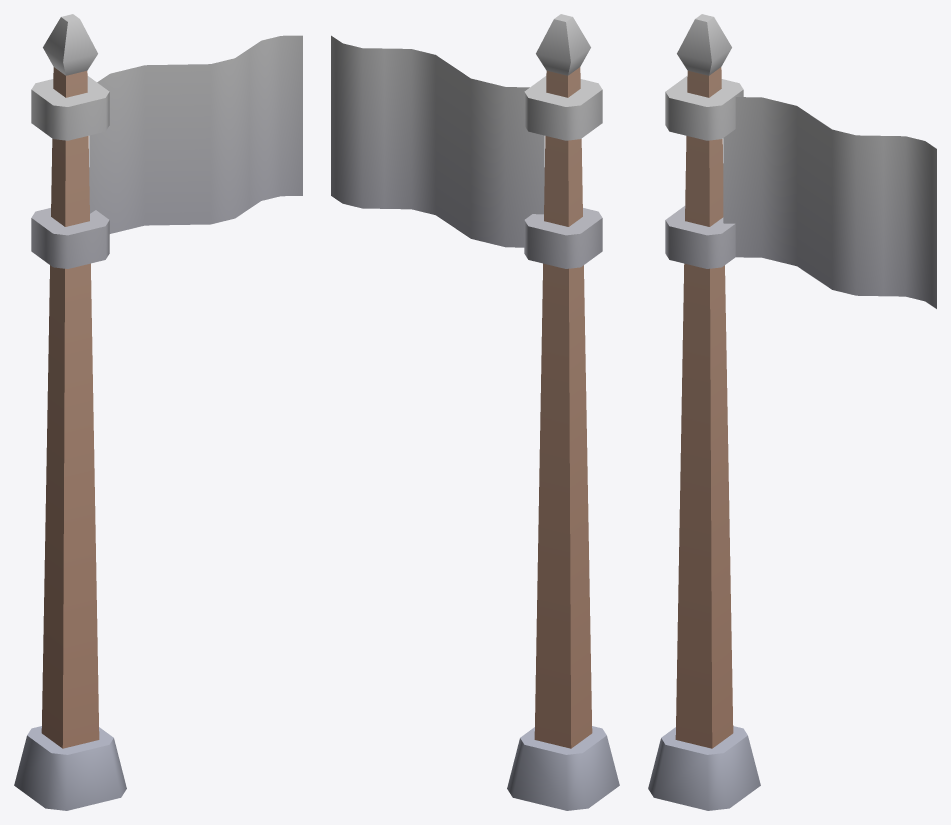
The model's file is flag-high.glb.
3 renders of one model, left to right at view 1: azimuth 30°, elevation 25°; view 2: azimuth 150°, elevation 25°; view 3: azimuth 330°, elevation 25°, orthographic.
Visible parts, largest first — view 1: flag-high; view 2: flag-high; view 3: flag-high.
Boxes of the visible parts, x1,y1,x2,y2 form: flag-high: (14, 14, 302, 810); flag-high: (331, 14, 619, 810); flag-high: (648, 14, 936, 810).
Size of the model in its own units: 1.34 by 3.6 by 0.3989.
